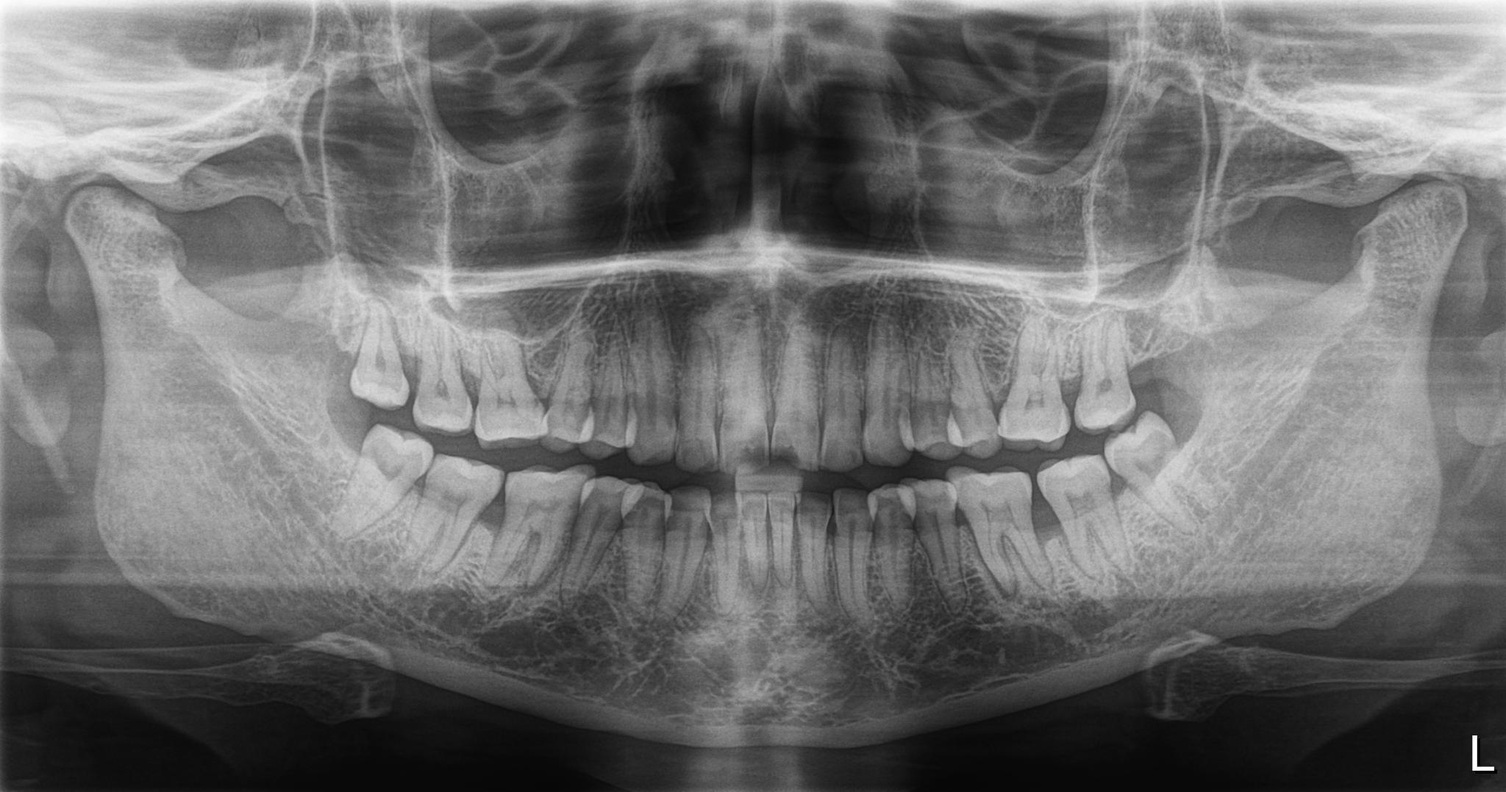Dental Caries: (721, 435, 833, 486)
Missing Tooth: (1120, 307, 1208, 421)
